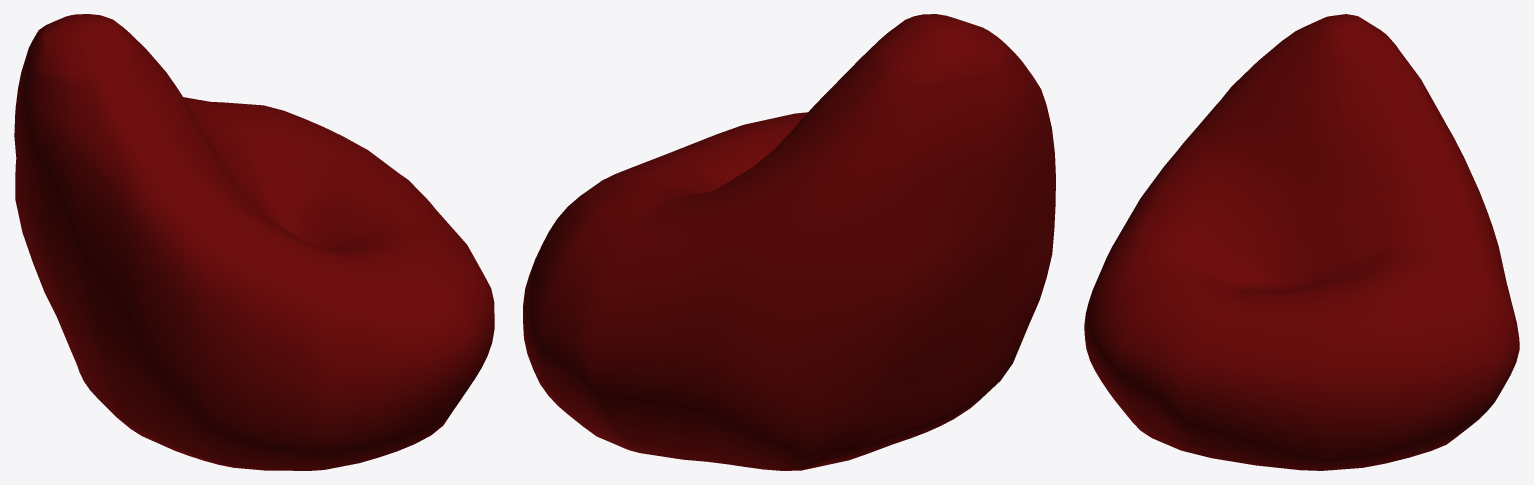
The model's file is beanbag.glb.
The picture shows the model from 3 angles, left to right: view 1: azimuth 30°, elevation 25°; view 2: azimuth 150°, elevation 25°; view 3: azimuth 270°, elevation 25°; orthographic projection. The views are drawn at different scales.
Parts seen in each view (by area): view 1: Bean_Bag; view 2: Bean_Bag; view 3: Bean_Bag.
Part boxes in pixels (x1,y1,x2,y2): Bean_Bag: (14, 14, 494, 470); Bean_Bag: (523, 14, 1055, 470); Bean_Bag: (1084, 14, 1519, 470).
Size of the model in its own units: 0.4993 by 0.4588 by 0.5517.
